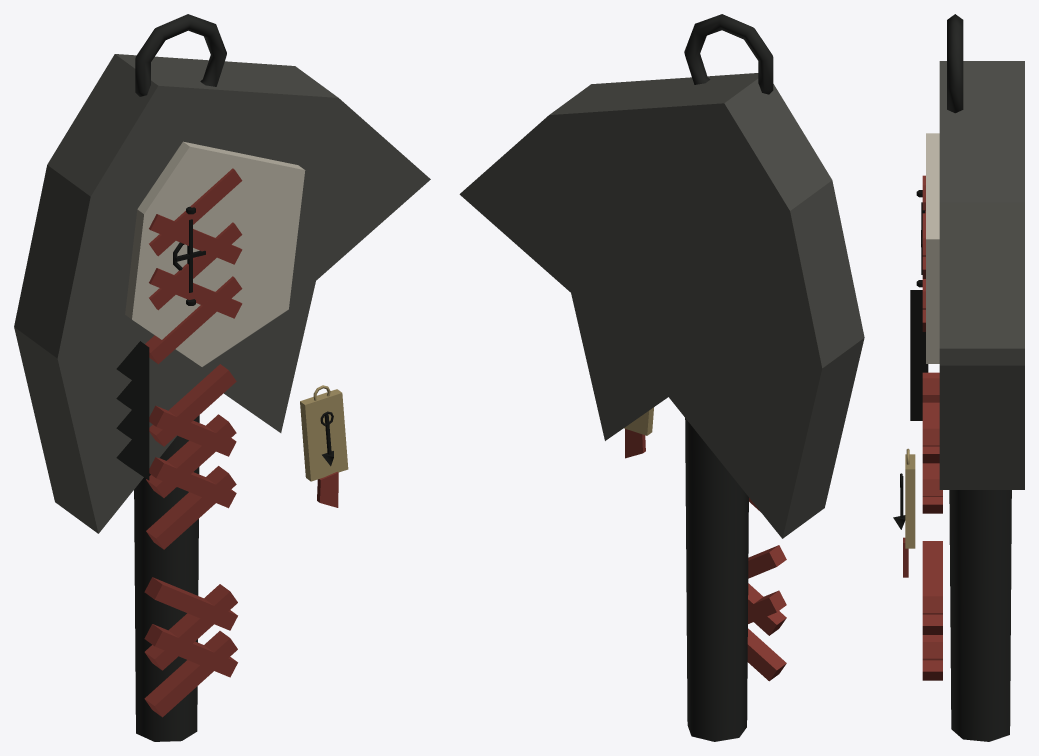
File: fantasy-faceted-razor-hatchet-v1.glb
The picture shows the model from 3 angles, left to right: view 1: azimuth 30°, elevation 25°; view 2: azimuth 150°, elevation 25°; view 3: azimuth 270°, elevation 25°; orthographic projection. The views are drawn at different scales.
Visible parts, largest first — view 1: Razor Hatchet; view 2: Razor Hatchet; view 3: Razor Hatchet.
Part boxes in pixels (<box>): Razor Hatchet: <box>14,14,430,741</box>; Razor Hatchet: <box>459,14,864,741</box>; Razor Hatchet: <box>893,14,1024,741</box>.
Size of the model in its own units: 1.88 by 3.48 by 0.5869.
